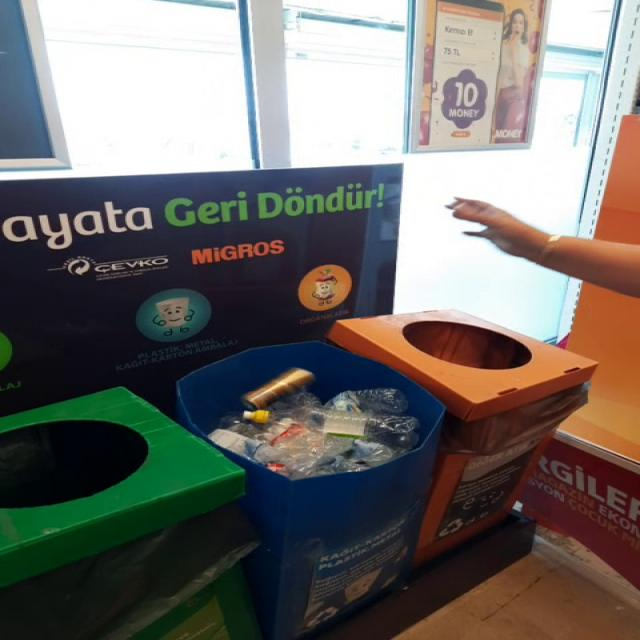metal: (243, 369, 315, 410)
